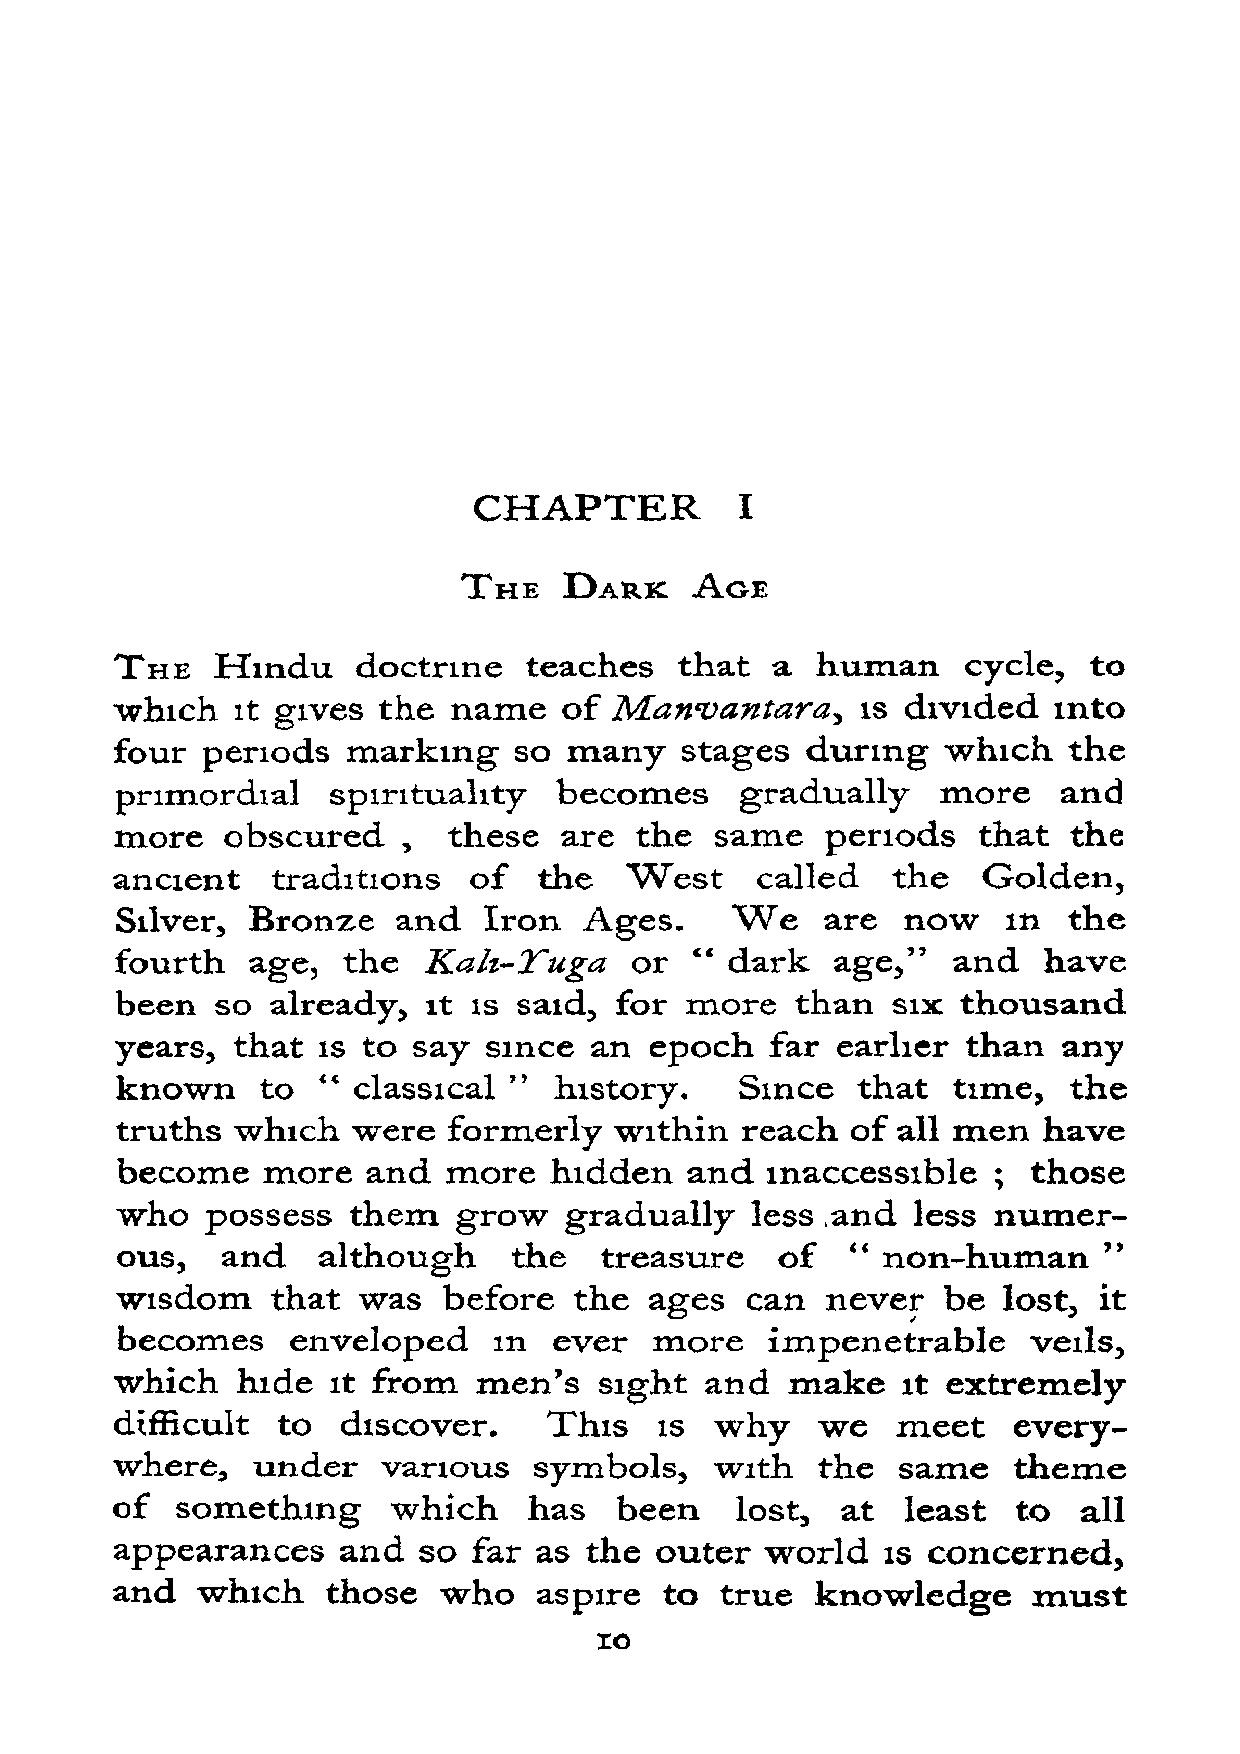chapter: (456, 488, 769, 604)
content: (107, 646, 1129, 1620)
content_pagenumber: (589, 1629, 633, 1657)
